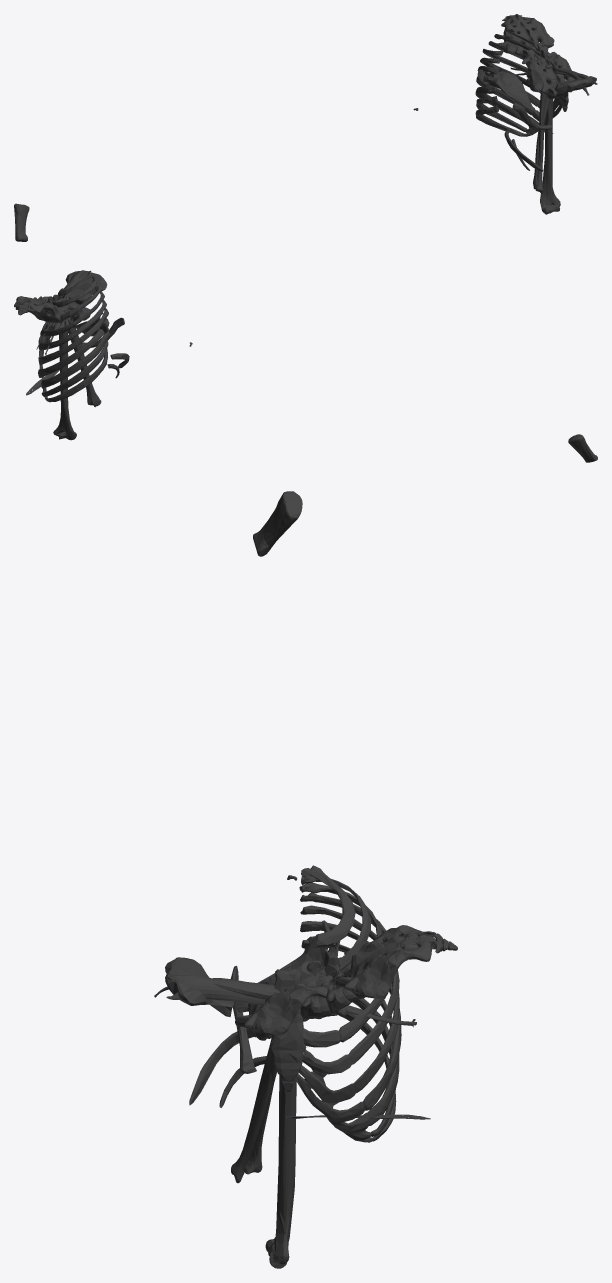
Rendered from sharedassets18.glb.
3 views of the same model, one above another, from view 1: azimuth 30°, elevation 25°; view 2: azimuth 150°, elevation 25°; view 3: azimuth 270°, elevation 25° (orthographic). The views are drawn at different scales.
Visible parts, largest first — view 1: 0078_S01-05 Sacrum_female_301827, 0076_S01-05 Sacrum_male_001242, 0002_Humerus _arm, brachium_, R__000807, 0033_Scapula, R__000991, 0003_Ulna _forearm, antebrachium_, R__000808, 0040_Eighth rib _08_, R__002280, 0009_2nd Middle phalanx _hand_, R__000815, 0042_Tenth rib _10_, R__002282, 0041_Ninth rib _09_, R__002281, 0036_Manubrium__001162, 0048_Seventh rib _07_, R__002279, 0060_Seventh rib _07_, L__002291 (+2 smaller); view 2: 0002_Humerus _arm, brachium_, R__000807, 0078_S01-05 Sacrum_female_301827, 0040_Eighth rib _08_, R__002280, 0048_Seventh rib _07_, R__002279, 0036_Manubrium__001162, 0047_Sixth rib _06_, R__002278, 0041_Ninth rib _09_, R__002281, 0046_Fifth rib _05_, R__002277, 0042_Tenth rib _10_, R__002282, 0045_Fourth rib _04_, R__002276, 0009_2nd Middle phalanx _hand_, R__000815, 0044_Third rib _03_, R__002275 (+3 smaller); view 3: 0078_S01-05 Sacrum_female_301827, 0002_Humerus _arm, brachium_, R__000807, 0076_S01-05 Sacrum_male_001242, 0047_Sixth rib _06_, R__002278, 0046_Fifth rib _05_, R__002277, 0037_Body of sternum__001163, 0048_Seventh rib _07_, R__002279, 0045_Fourth rib _04_, R__002276, 0036_Manubrium__001162, 0009_2nd Middle phalanx _hand_, R__000815, 0003_Ulna _forearm, antebrachium_, R__000808, 0049_First rib _01_, R__002273 (+4 smaller).
Part boxes in pixels (<box>): 0078_S01-05 Sacrum_female_301827: <box>501,14,554,58</box>; 0076_S01-05 Sacrum_male_001242: <box>526,54,574,99</box>; 0002_Humerus _arm, brachium_, R__000807: <box>540,98,560,214</box>; 0033_Scapula, R__000991: <box>477,64,533,110</box>; 0003_Ulna _forearm, antebrachium_, R__000808: <box>535,64,551,193</box>; 0040_Eighth rib _08_, R__002280: <box>475,86,538,132</box>; 0009_2nd Middle phalanx _hand_, R__000815: <box>14,203,29,241</box>; 0042_Tenth rib _10_, R__002282: <box>475,105,531,136</box>; 0041_Ninth rib _09_, R__002281: <box>476,96,536,134</box>; 0036_Manubrium__001162: <box>554,76,596,93</box>; 0048_Seventh rib _07_, R__002279: <box>476,76,562,120</box>; 0060_Seventh rib _07_, L__002291: <box>476,77,561,120</box>; 0002_Humerus _arm, brachium_, R__000807: <box>53,330,76,440</box>; 0078_S01-05 Sacrum_female_301827: <box>14,296,65,321</box>; 0040_Eighth rib _08_, R__002280: <box>41,328,109,389</box>; 0048_Seventh rib _07_, R__002279: <box>38,318,109,377</box>; 0036_Manubrium__001162: <box>65,270,107,304</box>; 0047_Sixth rib _06_, R__002278: <box>38,308,108,365</box>; 0041_Ninth rib _09_, R__002281: <box>41,339,108,396</box>; 0046_Fifth rib _05_, R__002277: <box>38,299,106,350</box>; 0042_Tenth rib _10_, R__002282: <box>44,348,107,402</box>; 0045_Fourth rib _04_, R__002276: <box>40,291,104,336</box>; 0009_2nd Middle phalanx _hand_, R__000815: <box>568,434,597,462</box>; 0044_Third rib _03_, R__002275: <box>46,283,101,322</box>; 0078_S01-05 Sacrum_female_301827: <box>335,925,435,998</box>; 0002_Humerus _arm, brachium_, R__000807: <box>265,1075,296,1268</box>; 0076_S01-05 Sacrum_male_001242: <box>235,961,339,1040</box>; 0047_Sixth rib _06_, R__002278: <box>299,921,399,1105</box>; 0046_Fifth rib _05_, R__002277: <box>300,905,399,1077</box>; 0037_Body of sternum__001163: <box>270,969,306,1081</box>; 0048_Seventh rib _07_, R__002279: <box>295,940,401,1125</box>; 0045_Fourth rib _04_, R__002276: <box>300,892,386,1047</box>; 0036_Manubrium__001162: <box>165,957,233,1017</box>; 0009_2nd Middle phalanx _hand_, R__000815: <box>253,491,302,556</box>; 0003_Ulna _forearm, antebrachium_, R__000808: <box>231,1035,276,1183</box>; 0049_First rib _01_, R__002273: <box>301,865,355,947</box>.
Size of the model in its own units: 0.6805 by 0.2153 by 0.1625.
1 material, 1 textured.
